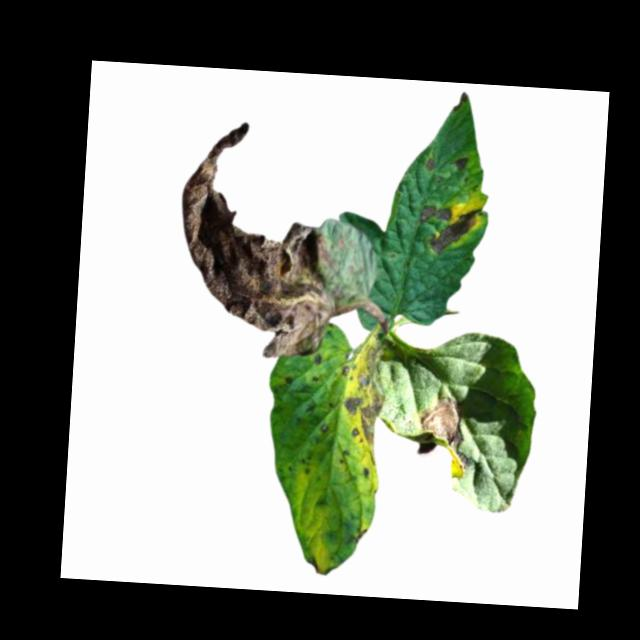Early_blight: (171, 119, 359, 358), (417, 393, 478, 480), (342, 339, 388, 445), (424, 201, 482, 256), (416, 201, 453, 225), (305, 553, 335, 576), (451, 153, 470, 174), (280, 371, 299, 387), (422, 155, 436, 170)
